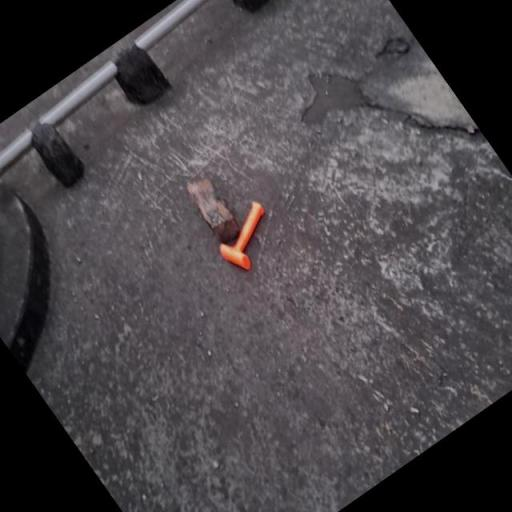mallet: (208, 200, 288, 277)
